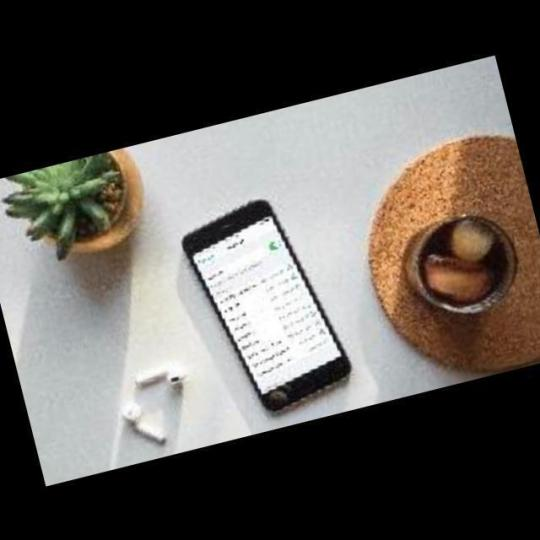phone: (171, 202, 360, 409)
